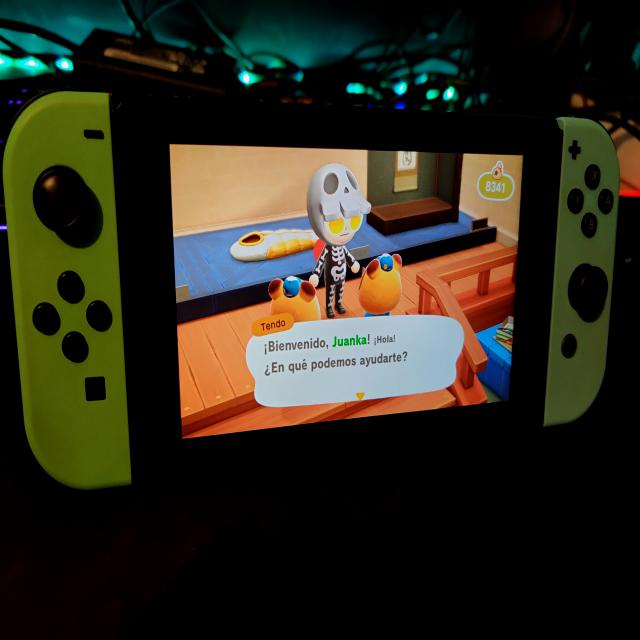text_bubble: (246, 311, 467, 412)
